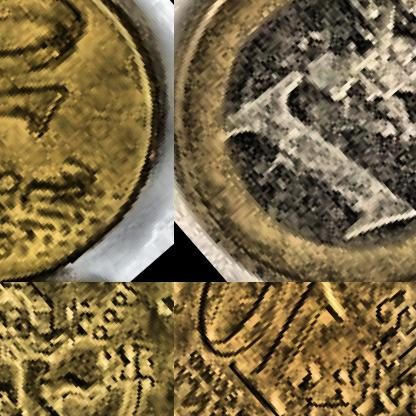coin: (174, 0, 415, 281), (0, 0, 173, 281), (174, 282, 415, 415), (0, 282, 173, 415)
